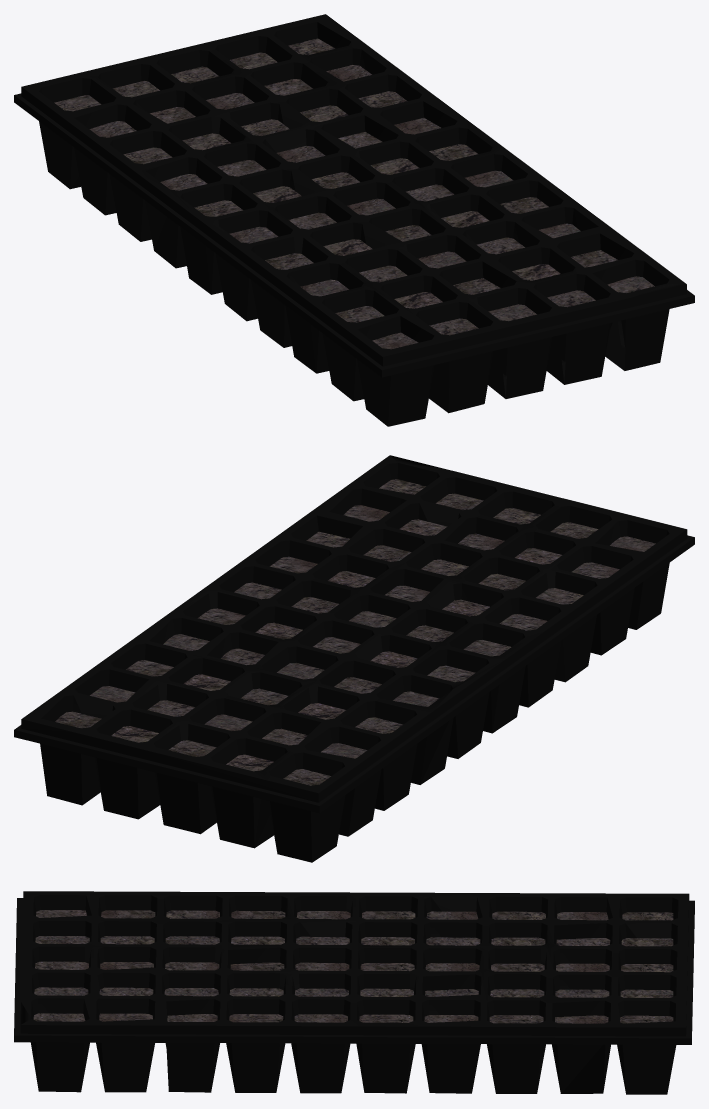
Rendered from qianchapan.FBX.
3 views of the same model, one above another, from view 1: azimuth 30°, elevation 25°; view 2: azimuth 150°, elevation 25°; view 3: azimuth 270°, elevation 25° (orthographic). The views are drawn at different scales.
Visible parts, largest first — view 1: SSDS6959; view 2: SSDS6959; view 3: SSDS6959.
Part boxes in pixels (left/top/right/bottom): SSDS6959: left=14, top=14, right=694, bottom=426; SSDS6959: left=14, top=455, right=694, bottom=862; SSDS6959: left=14, top=891, right=694, bottom=1094.
Bounding box in the file's own units: 0.3621 × 0.0893 × 0.7426.
2 materials, 1 textured.
